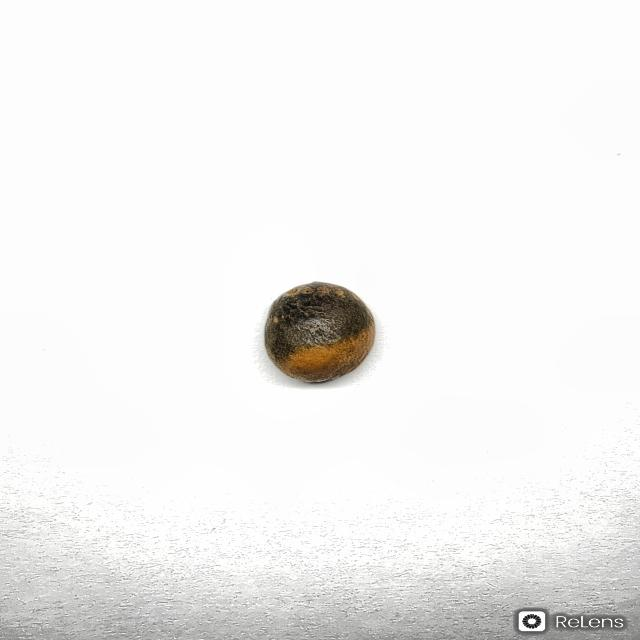Scorched: (261, 280, 377, 384)
